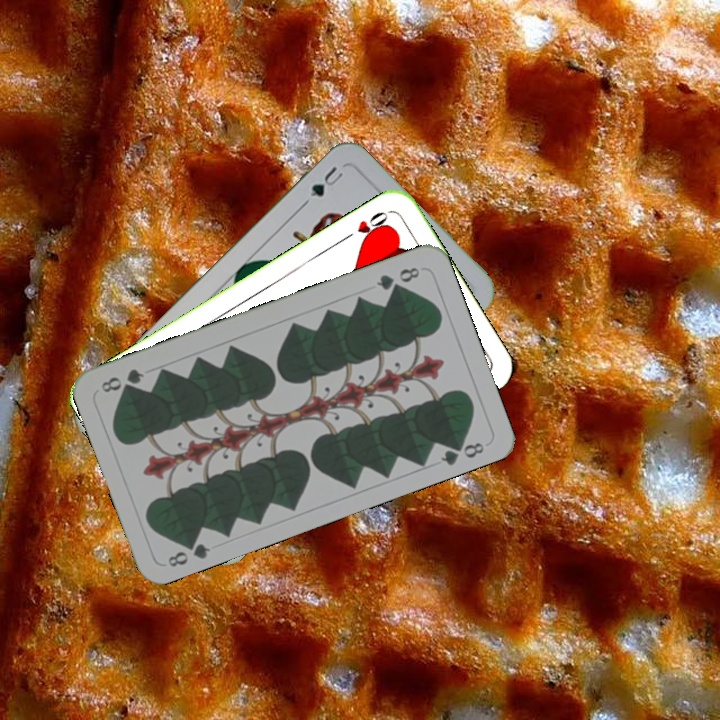G8: (164, 534, 213, 570), (372, 263, 422, 293)
GU: (299, 162, 346, 207)
HO: (339, 206, 392, 245)
